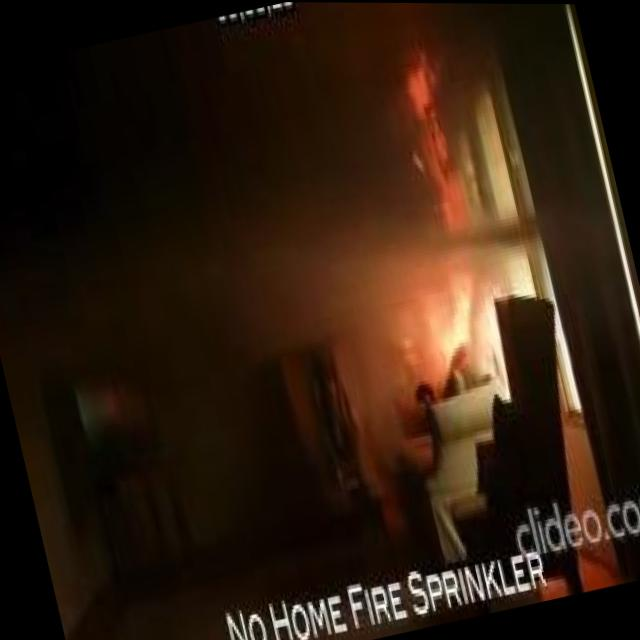fire: (388, 56, 479, 249), (426, 284, 486, 372)
